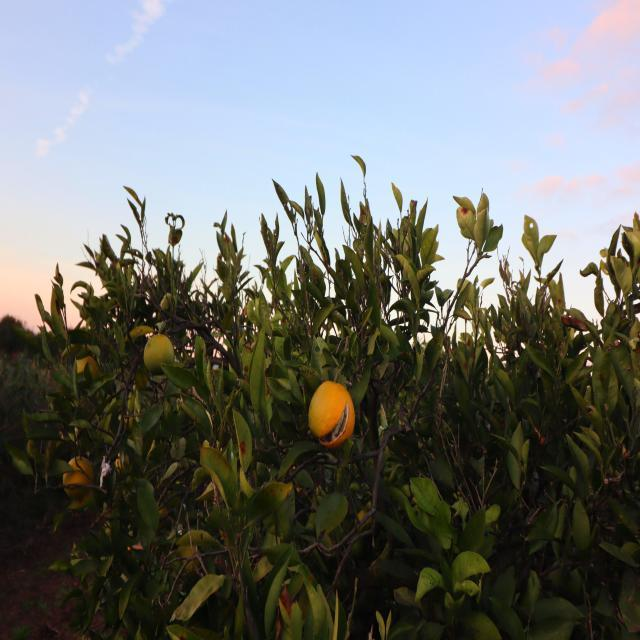Jeruk Belum Matang: (144, 334, 176, 378)
Jeruk Sudah Matang: (312, 380, 356, 450), (60, 456, 100, 501), (70, 352, 106, 390)
